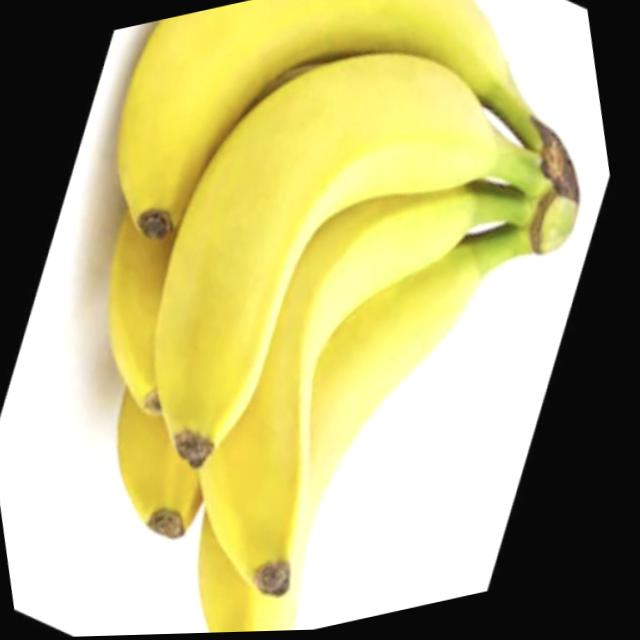Banana: (28, 0, 640, 639)
